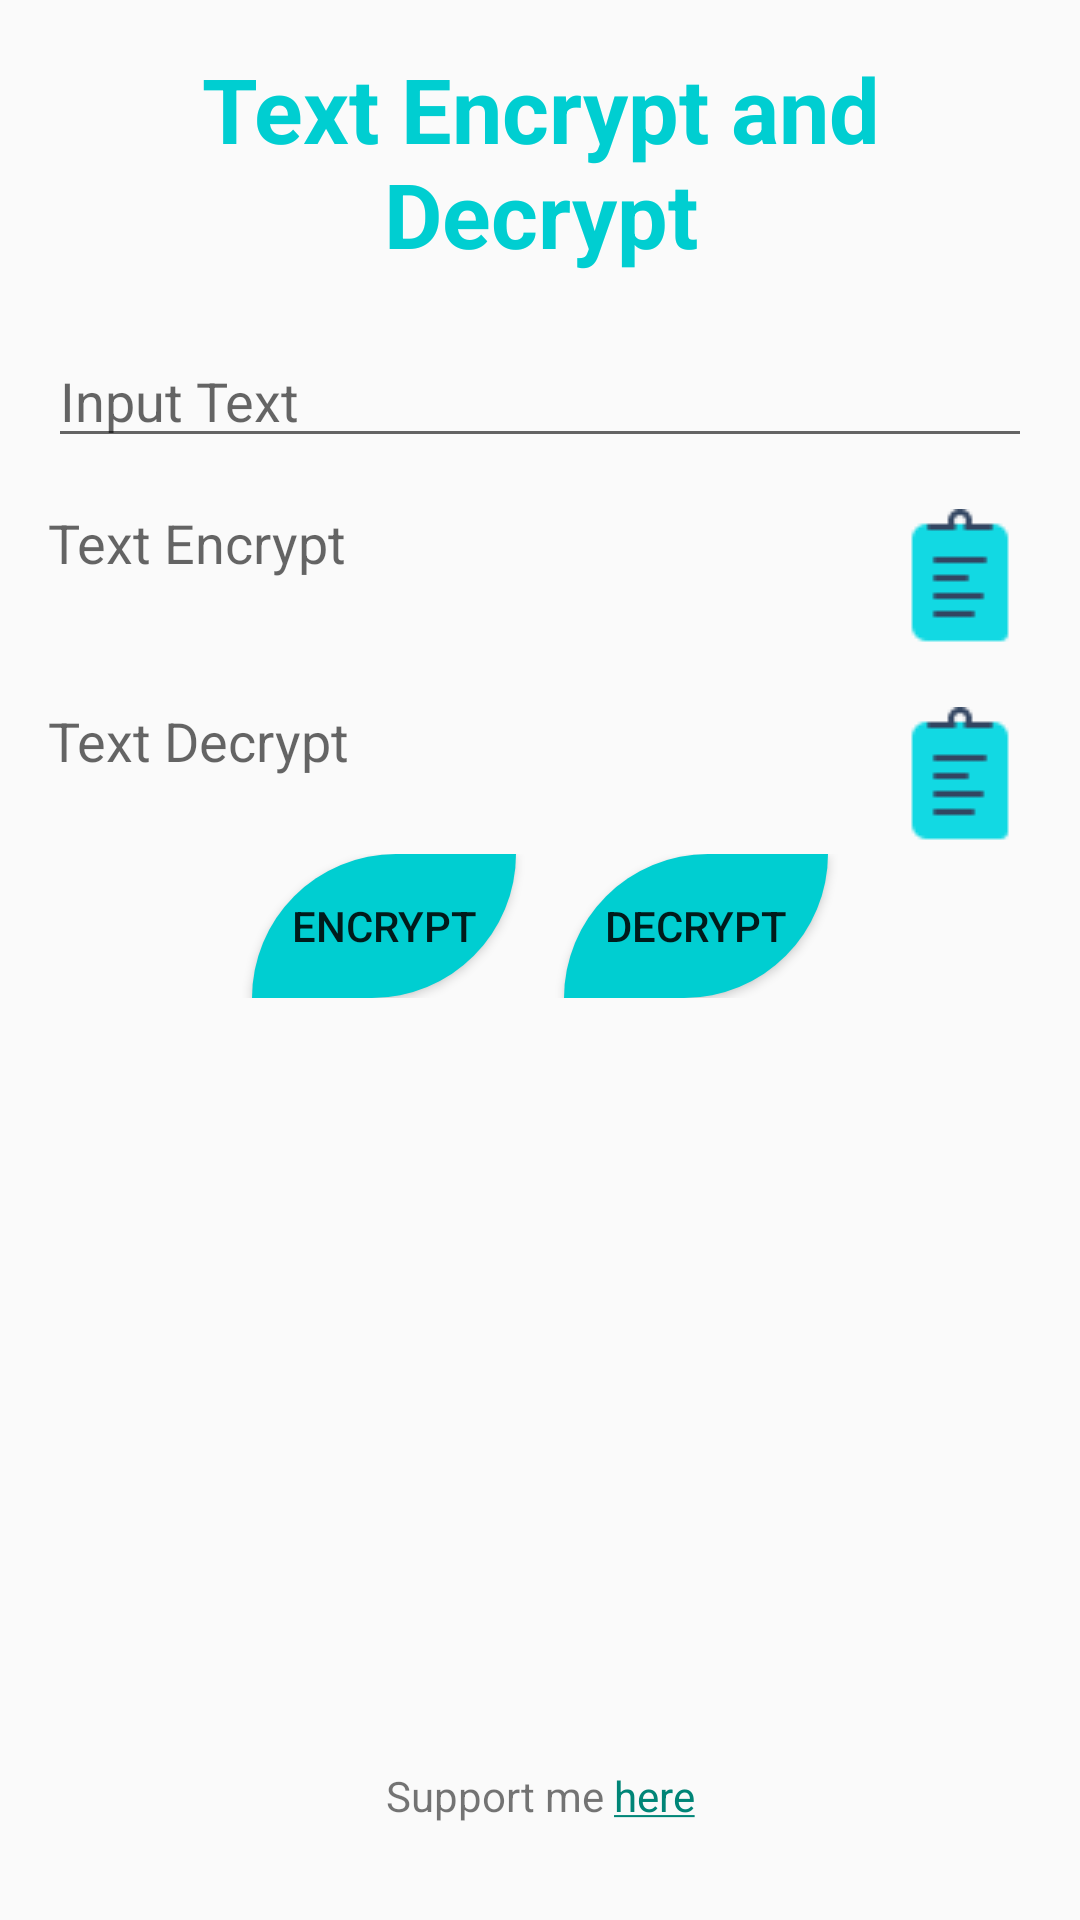

Icon bounding boxes for this 1080x1920 phone screenshot, format [x1=x1, y1=y1, x2=x2, y2=y2]:
clipboard: [x1=911, y1=509, x2=1009, y2=642], [x1=911, y1=707, x2=1009, y2=840]
